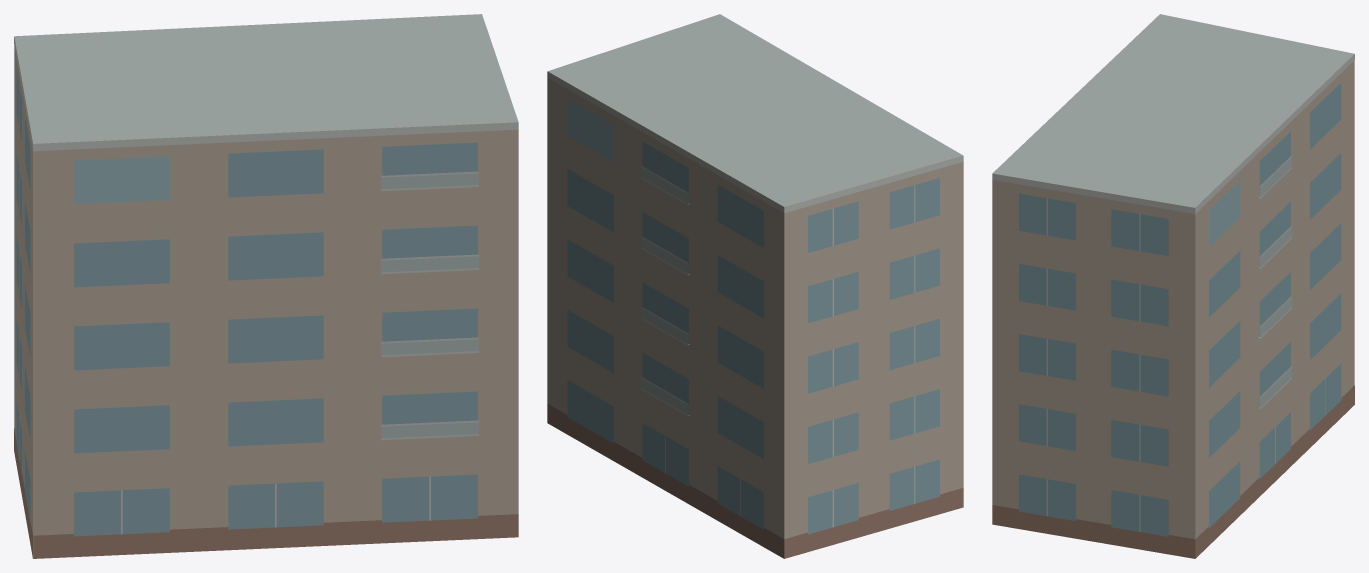
File: survey-upis-32527945.glb
3 renders of one model, left to right at view 1: azimuth 30°, elevation 25°; view 2: azimuth 150°, elevation 25°; view 3: azimuth 270°, elevation 25°, orthographic. The views are drawn at different scales.
Visible parts, largest first — view 1: survey-upis-32527945.tmp; view 2: survey-upis-32527945.tmp; view 3: survey-upis-32527945.tmp.
Boxes of the visible parts, x1,y1,x2,y2 form: survey-upis-32527945.tmp: [14, 14, 518, 558]; survey-upis-32527945.tmp: [547, 14, 963, 558]; survey-upis-32527945.tmp: [992, 14, 1354, 558].
Bounding box in the file's own units: 16.36 × 13.8 × 12.93.
